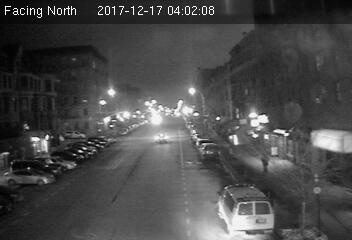car: (154, 132, 170, 144)
pedestrian: (262, 151, 270, 177)
police: (216, 183, 272, 236)
